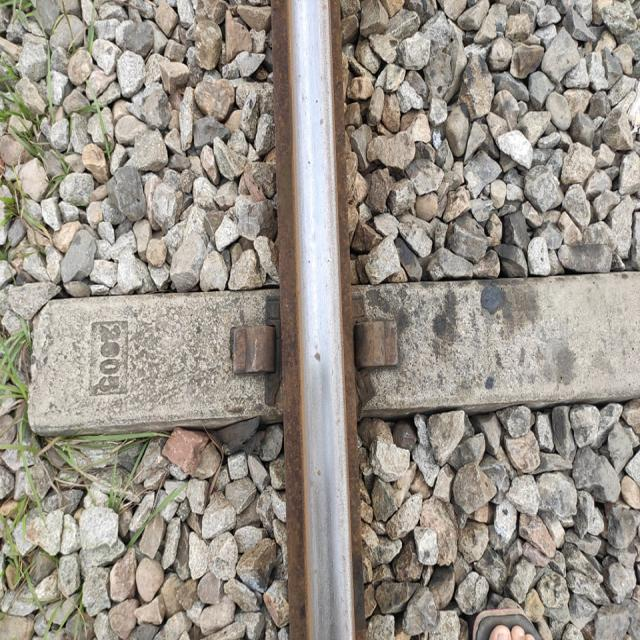Faults: (224, 318, 276, 380), (357, 312, 403, 374)
